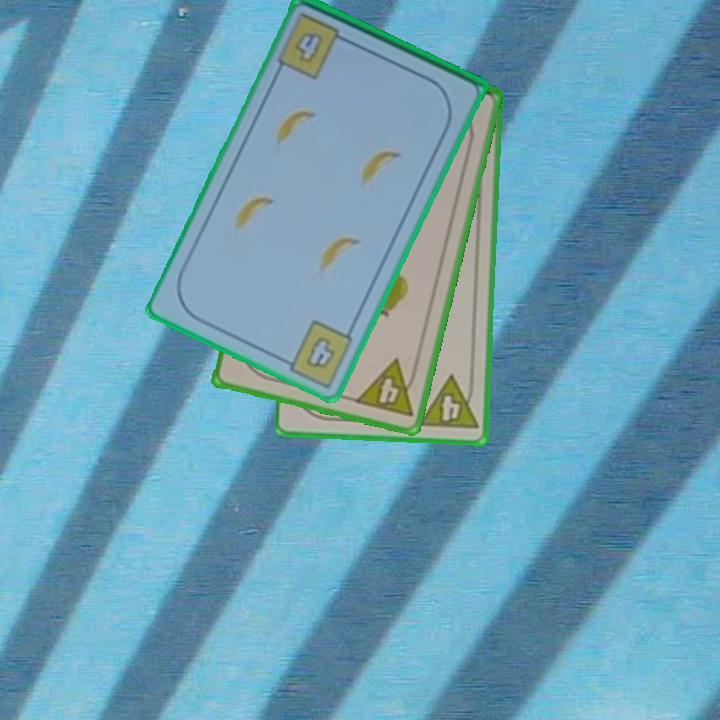4b: (277, 316, 357, 388), (291, 28, 327, 67)
4p: (351, 355, 422, 421), (415, 372, 481, 433)
